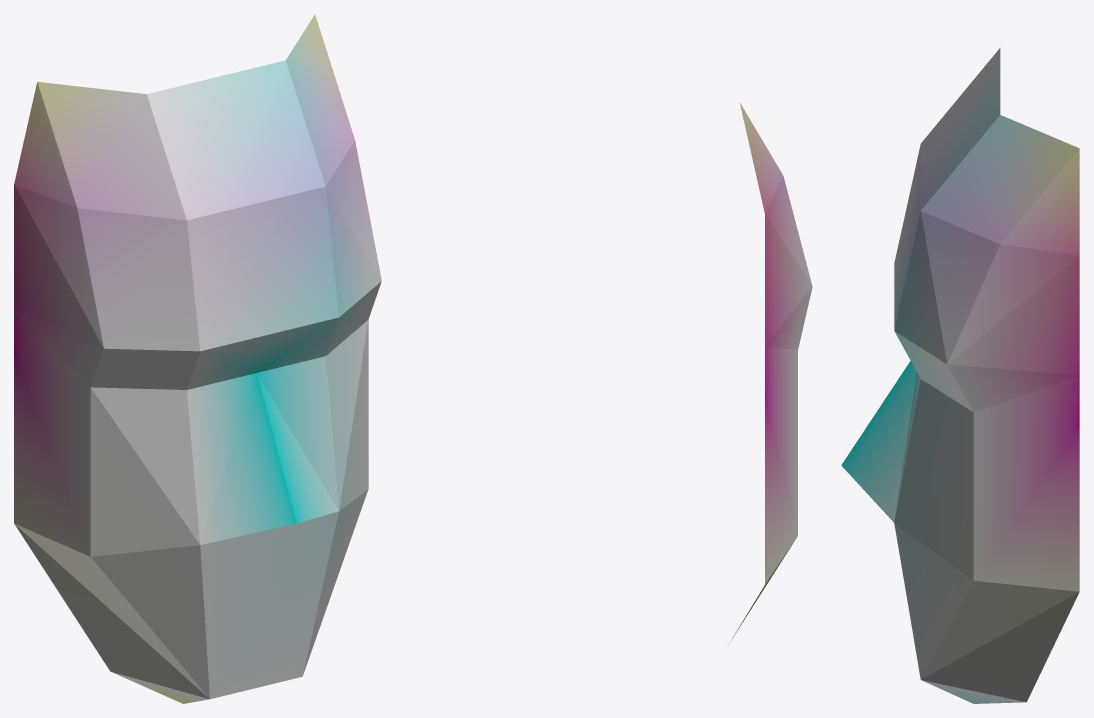
The picture shows the model from 3 angles, left to right: view 1: azimuth 30°, elevation 25°; view 2: azimuth 150°, elevation 25°; view 3: azimuth 270°, elevation 25°; orthographic projection. The views are drawn at different scales.
Parts seen in each view (by area): view 1: model_140D; view 2: model_140D; view 3: model_140D.
Part boxes in pixels (bbox=[...]): model_140D: bbox=[14, 14, 381, 703]; model_140D: bbox=[728, 102, 812, 644]; model_140D: bbox=[841, 48, 1079, 703].
Bounding box in the file's own units: 14 × 25 × 9.
